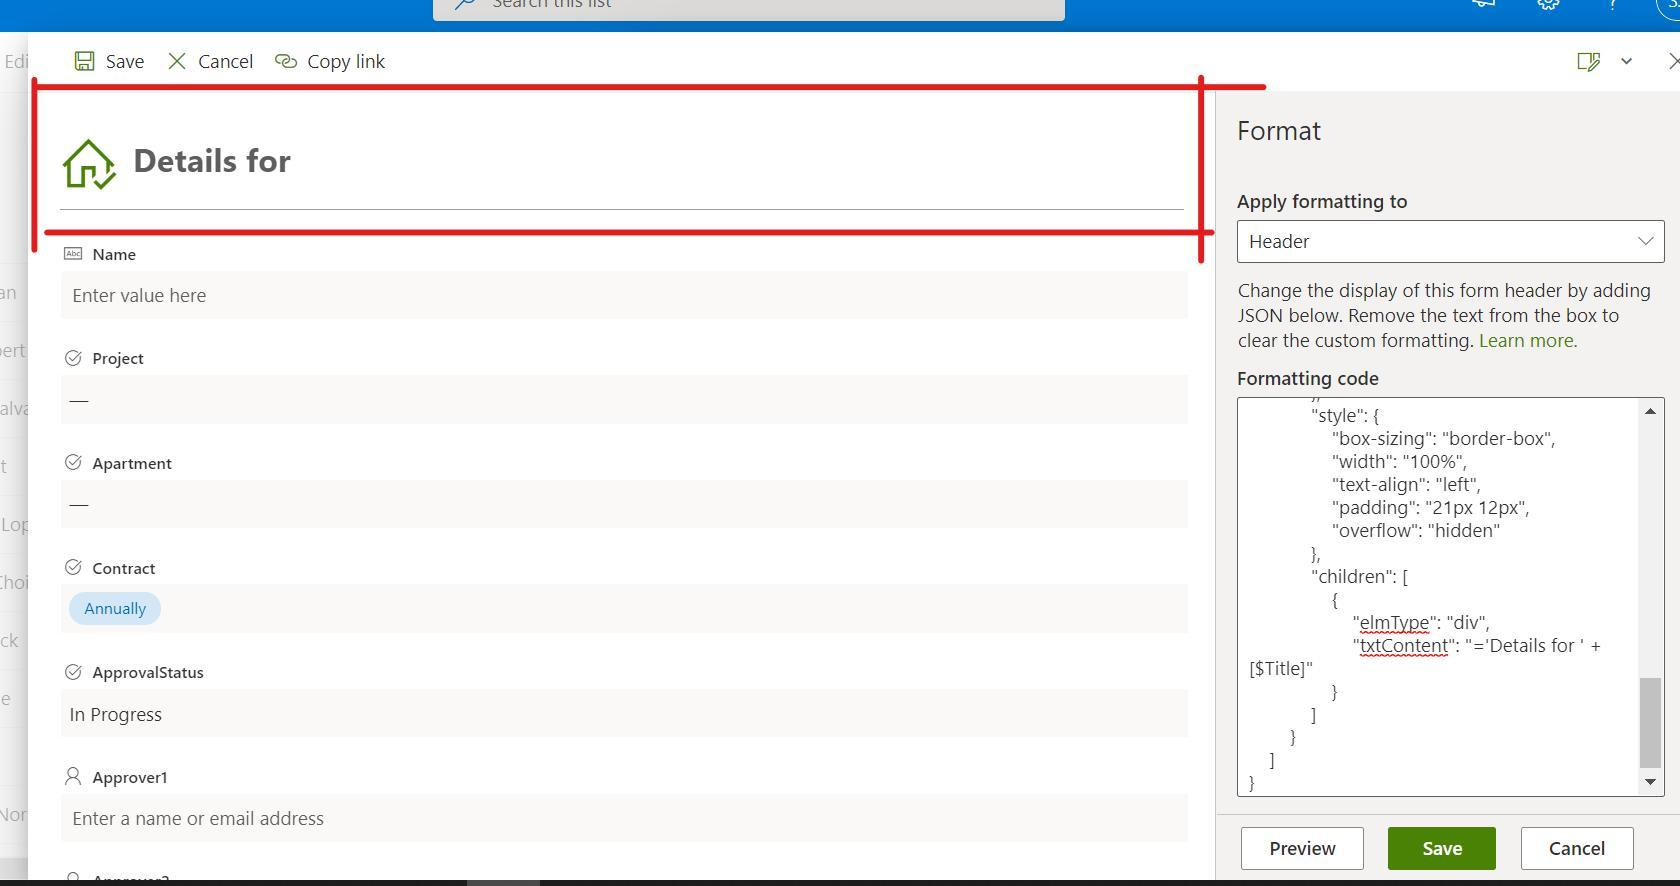button: (1242, 830, 1367, 872), (1524, 829, 1636, 872), (1389, 829, 1496, 872)
dropdown: (1238, 221, 1664, 263), (1616, 51, 1641, 74)
icon: (64, 129, 117, 196), (274, 47, 304, 74), (60, 241, 89, 267), (57, 346, 84, 371), (74, 47, 99, 74), (169, 49, 191, 76), (66, 761, 82, 792), (1579, 52, 1602, 72), (64, 664, 86, 684), (67, 452, 84, 475), (64, 559, 84, 577), (1667, 50, 1680, 72)
input: (61, 584, 1184, 643), (59, 689, 1186, 741), (61, 480, 1186, 532), (59, 376, 1190, 426), (64, 273, 1187, 321), (66, 795, 1184, 842), (434, 1, 1064, 24)
label: (122, 139, 302, 189), (1237, 182, 1420, 211), (1237, 361, 1384, 394), (96, 660, 210, 686), (1234, 117, 1331, 145), (94, 761, 180, 792), (92, 451, 180, 477), (304, 52, 396, 77), (92, 559, 164, 581), (200, 51, 256, 76), (90, 350, 157, 369), (102, 51, 147, 74), (92, 245, 140, 263)
